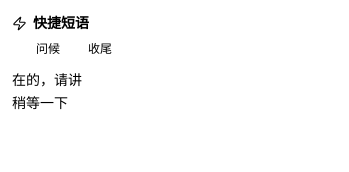
Test: FlareQuickPhrases › switches groups, and says which one is showing
The image size is (349, 172).
Click the tab "收尾": click(100, 48) left=76, top=34, right=124, bottom=61
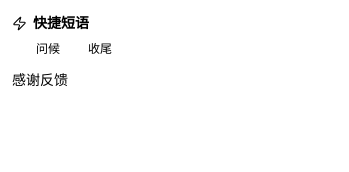
Now the elements with class "flare-quick-phrases__item" read "感谢反馈", in this order, box left=12, top=70, right=332, bottom=91
